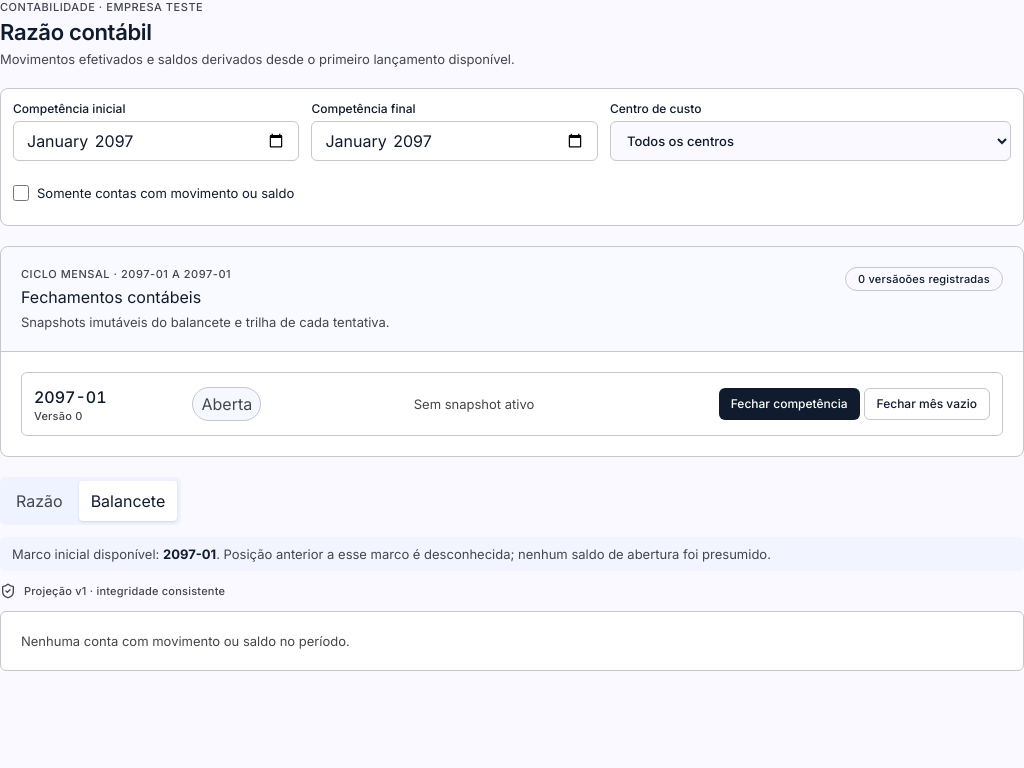
Test: razão contábil › mostra o ciclo e exige confirmação identificada antes de fechar
The image size is (1024, 768).
Expected: the heading "Fechamentos contábeis" is shown, x1=21 y1=287 x2=201 y2=307
Expected: the text "Sem snapshot ativo" is shown, x1=414 y1=396 x2=534 y2=412
Click the button "Fechar competência".
click(789, 404)  # box x1=719 y1=388 x2=860 y2=420
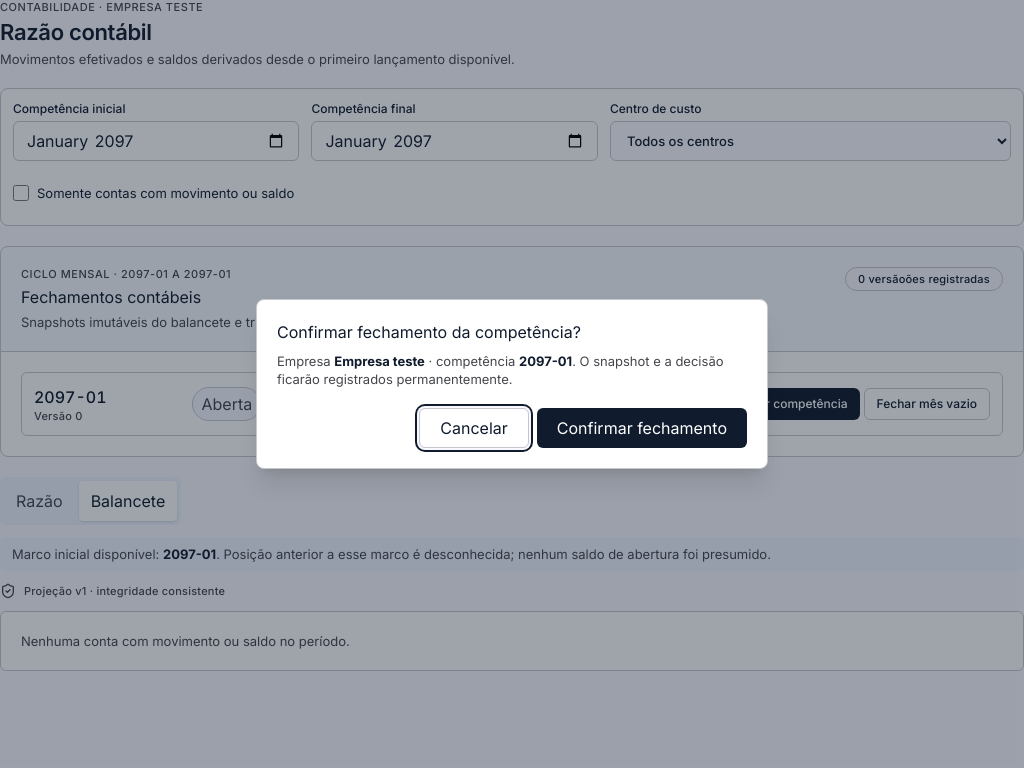
Expected: the dialog is shown, x1=256 y1=299 x2=768 y2=469
